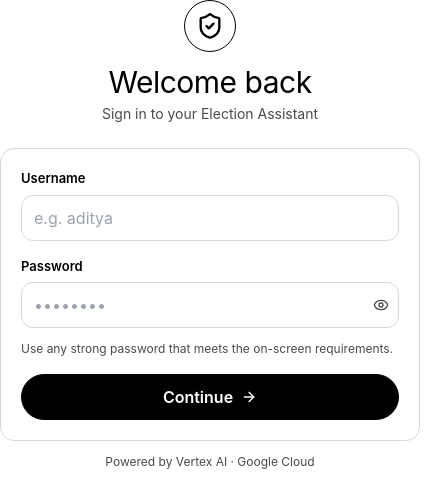
it: Login Component › toggles button label when showing/hiding password
Click the button named "show password" at (381, 305), box [373,297,389,313]
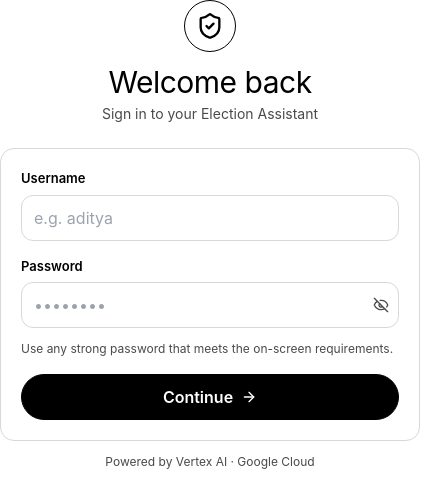
Result: the button named "hide password" is shown at [373,297,389,313]
